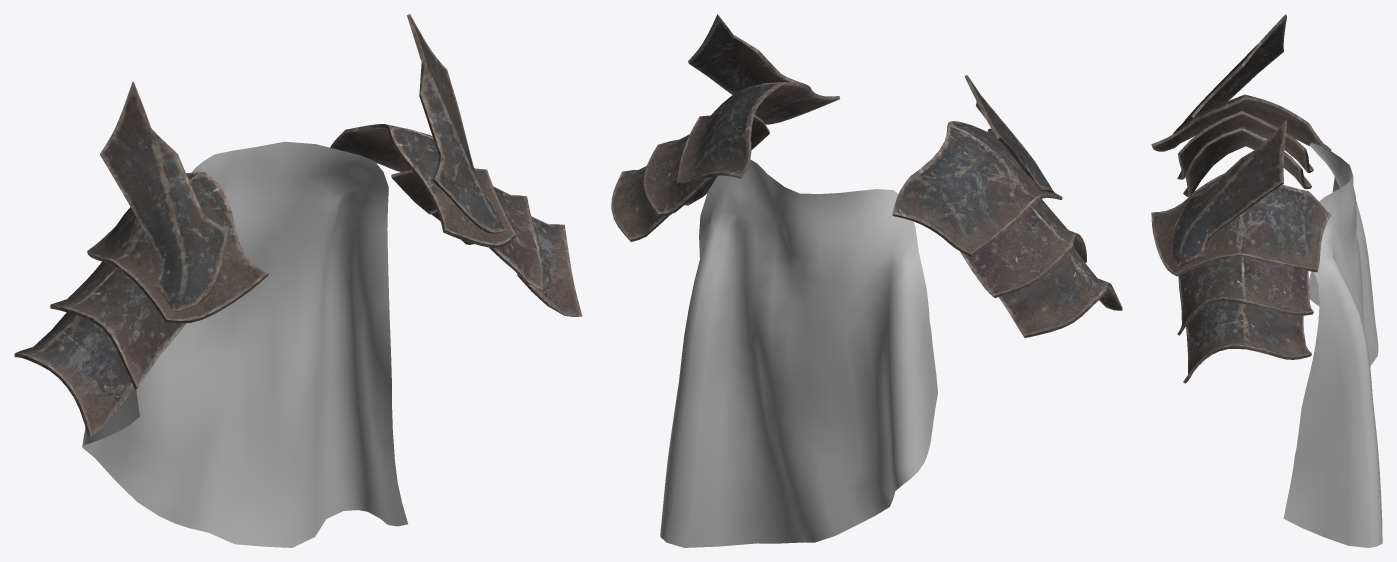
The model's file is sk_dg_uruk_pauldron_elite_cape_b.fbx.
3 renders of one model, left to right at view 1: azimuth 30°, elevation 25°; view 2: azimuth 150°, elevation 25°; view 3: azimuth 270°, elevation 25°, orthographic. The views are drawn at different scales.
Parts seen in each view (by area): view 1: sk_dg_uruk_pauldron_elite_cape_b.cape, sk_dg_uruk_pauldron_elite_cape_b; view 2: sk_dg_uruk_pauldron_elite_cape_b.cape, sk_dg_uruk_pauldron_elite_cape_b; view 3: sk_dg_uruk_pauldron_elite_cape_b, sk_dg_uruk_pauldron_elite_cape_b.cape.
Boxes of the visible parts, <box> form: sk_dg_uruk_pauldron_elite_cape_b.cape: <box>82,141,407,547</box>; sk_dg_uruk_pauldron_elite_cape_b: <box>14,14,582,437</box>; sk_dg_uruk_pauldron_elite_cape_b.cape: <box>660,159,937,547</box>; sk_dg_uruk_pauldron_elite_cape_b: <box>611,14,1122,337</box>; sk_dg_uruk_pauldron_elite_cape_b: <box>1151,14,1331,383</box>; sk_dg_uruk_pauldron_elite_cape_b.cape: <box>1283,143,1382,547</box>.
Bounding box in the file's own units: 0.8427 × 0.399 × 0.8162.
